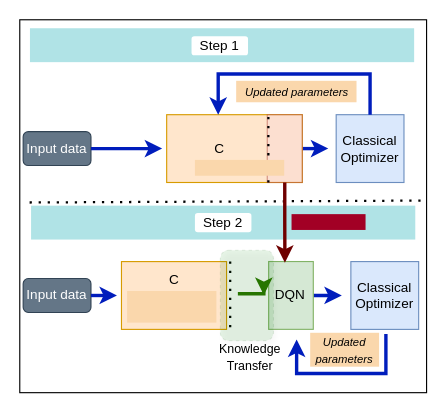
The diagram is 446 pixels wide and 412 high, and some of its shapes have lost their labels. The centre of each missing label's shape, as x and y in pixels:
"(Classical Model)" belongs at (239,167).
"(Pre-trained classical layers)" belongs at (171,306).
"C'" belongs at (284,148).
"Replace with" belongs at (328,221).
